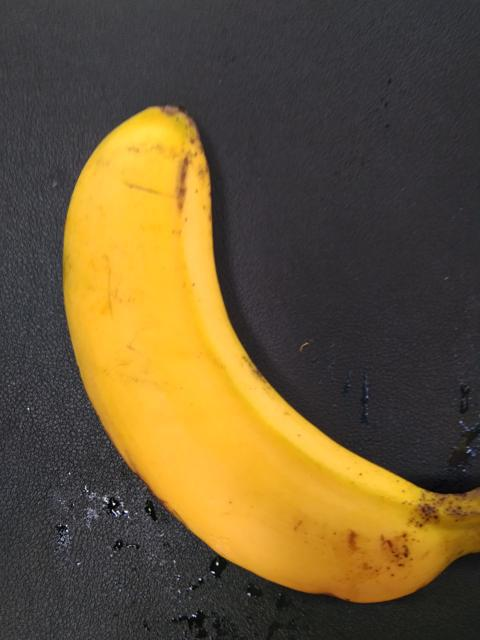freshripe: (48, 92, 479, 625)
